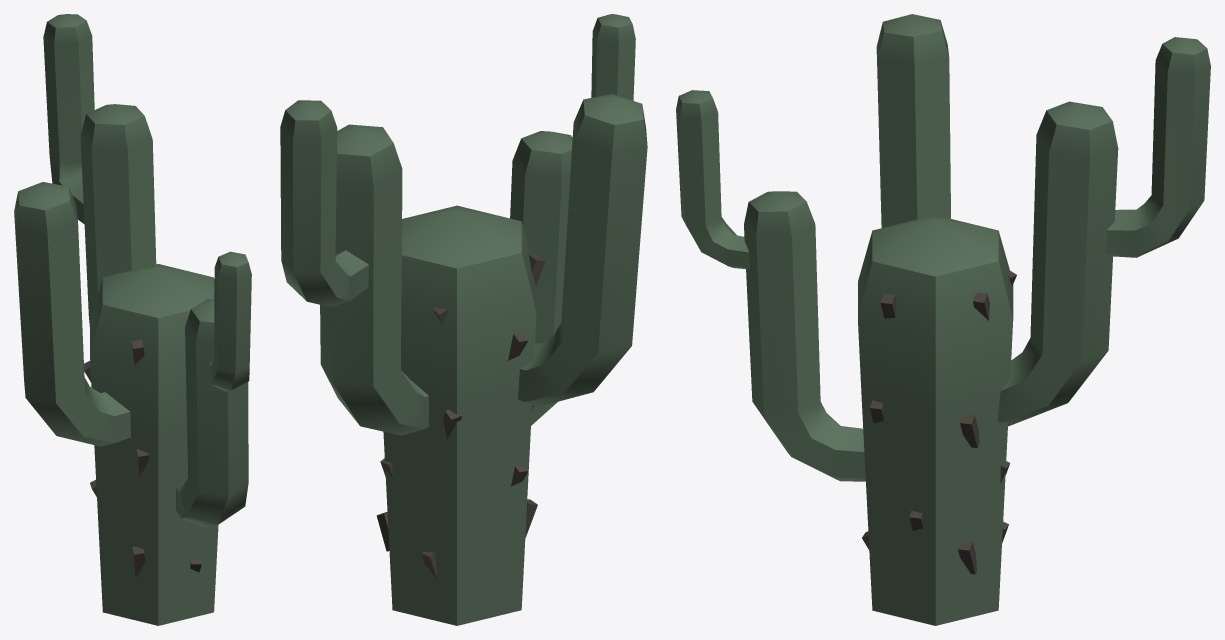
File: cactus.fbx
3 renders of one model, left to right at view 1: azimuth 30°, elevation 25°; view 2: azimuth 150°, elevation 25°; view 3: azimuth 270°, elevation 25°, orthographic. The views are drawn at different scales.
Parts seen in each view (by area): view 1: pCylinder9; view 2: pCylinder9; view 3: pCylinder9.
Boxes of the visible parts, left/top/right/bottom form: pCylinder9: left=14, top=14, right=251, bottom=625; pCylinder9: left=280, top=14, right=647, bottom=625; pCylinder9: left=676, top=14, right=1210, bottom=625.
Bounding box in the file's own units: 12.01 × 25.85 × 22.1.
